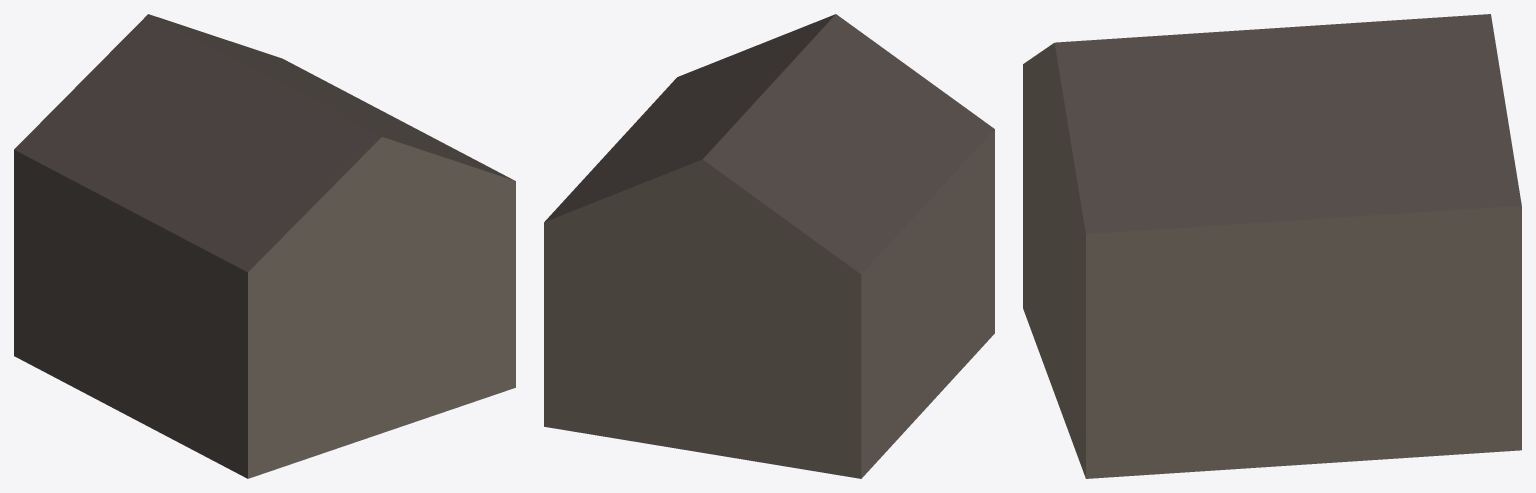
3 views of the same model, side by side, from view 1: azimuth 30°, elevation 25°; view 2: azimuth 150°, elevation 25°; view 3: azimuth 270°, elevation 25° (orthographic). The views are drawn at different scales.
Visible parts, largest first — view 1: HP-w858807464; view 2: HP-w858807464; view 3: HP-w858807464.
Part boxes in pixels (left/top/right/bottom): HP-w858807464: left=14, top=14, right=515, bottom=478; HP-w858807464: left=544, top=14, right=994, bottom=478; HP-w858807464: left=1023, top=14, right=1521, bottom=478.
Bounding box in the file's own units: 5.23 × 4.31 × 5.54.
